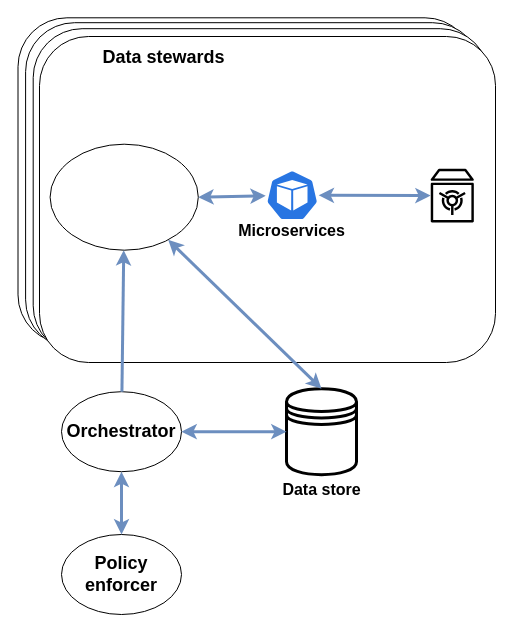
Some shapes in this 513 by 632 pixel diagram are drawn without their labels. Here are the shapes that lost their labels. From the top down, the centre of each, then its label:
At (123,196): "Distributed agent".
At (451,195): "Data pod".
